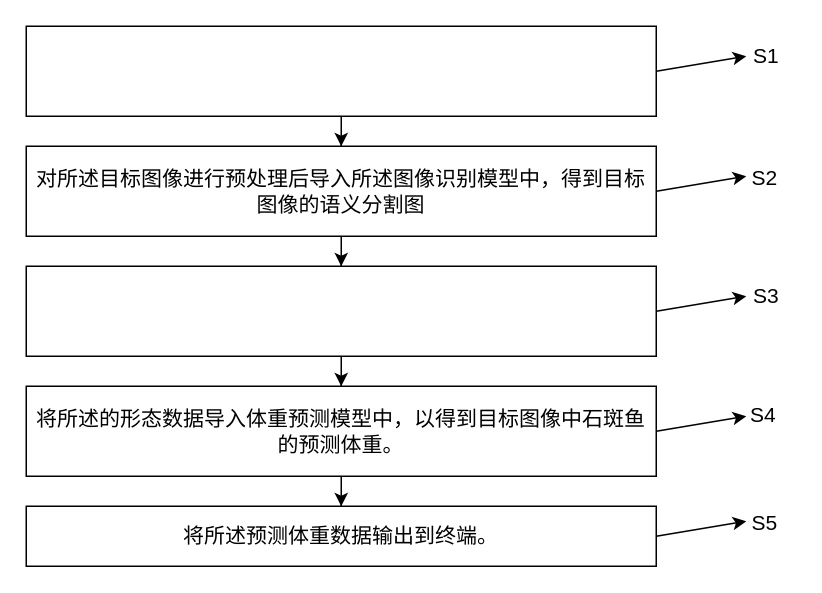
The diagram is 822 pixels wide and 593 high, and some of its shapes have lost their labels. The box of each missing label's shape, as (x1, y1, x2, y2) in pixels:
将所述的语义分割图根据固定参照物尺寸导入自适应尺寸矫正算法得到鱼身面积、鱼身高度、鱼的体长的形态数据。: (25, 265, 656, 356)
获取目标图像，所述目标图像采集设备包括摄像头，摄像机，相机，扫描仪和其他带有拍照功能的设备（手机、平板电脑等）: (25, 25, 656, 116)
